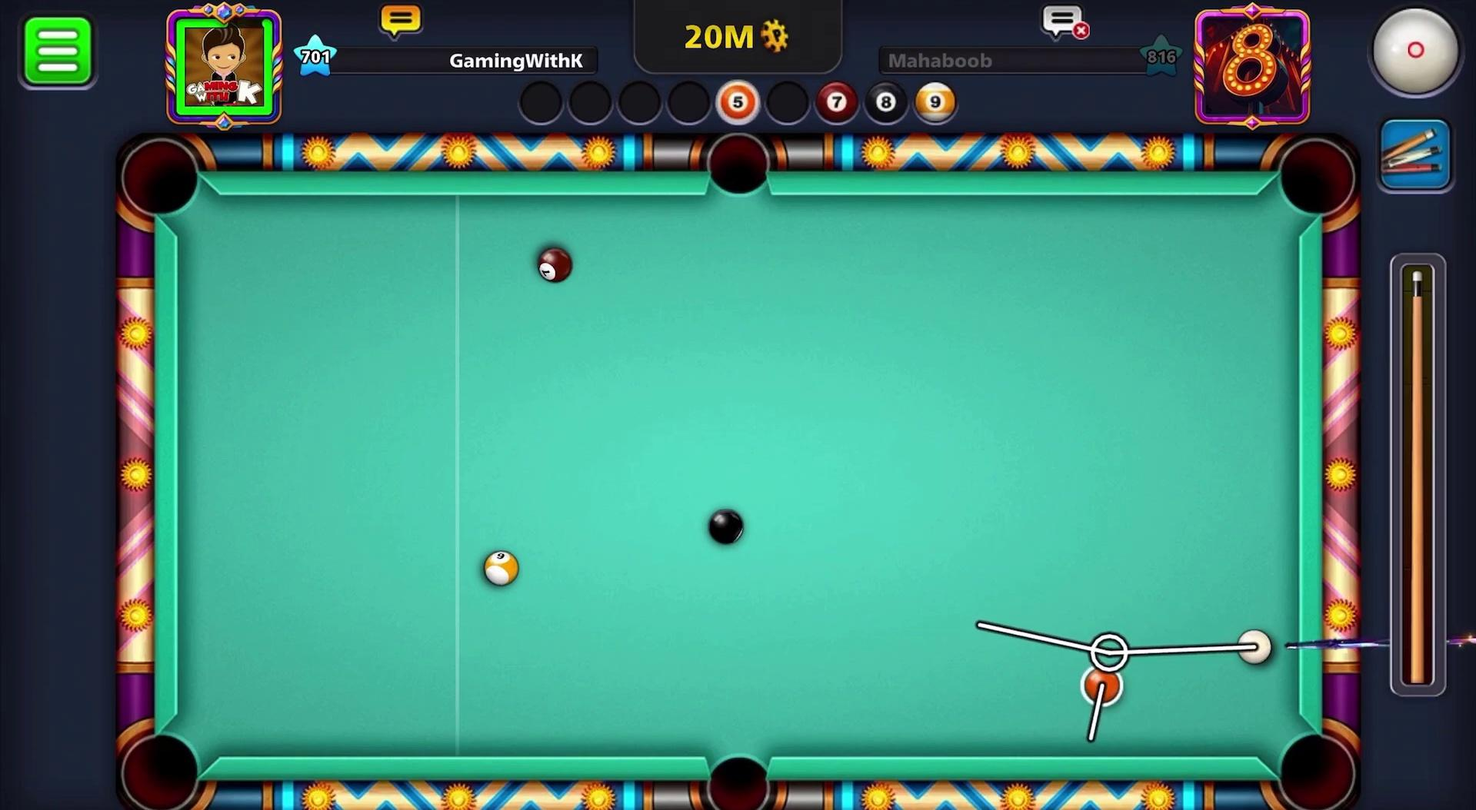Ball: (698, 504, 751, 550), (476, 543, 525, 590), (1078, 659, 1121, 712), (529, 245, 575, 284)
Force: (1387, 254, 1451, 692)
Guideline: (976, 622, 1272, 742)
Hole: (1269, 129, 1366, 229), (1268, 717, 1361, 809), (113, 132, 205, 223), (115, 727, 205, 809), (692, 734, 781, 809), (703, 126, 775, 199)
Play_Area: (176, 192, 1297, 762)
Spin: (1346, 0, 1475, 112)
White: (1238, 625, 1281, 672)
